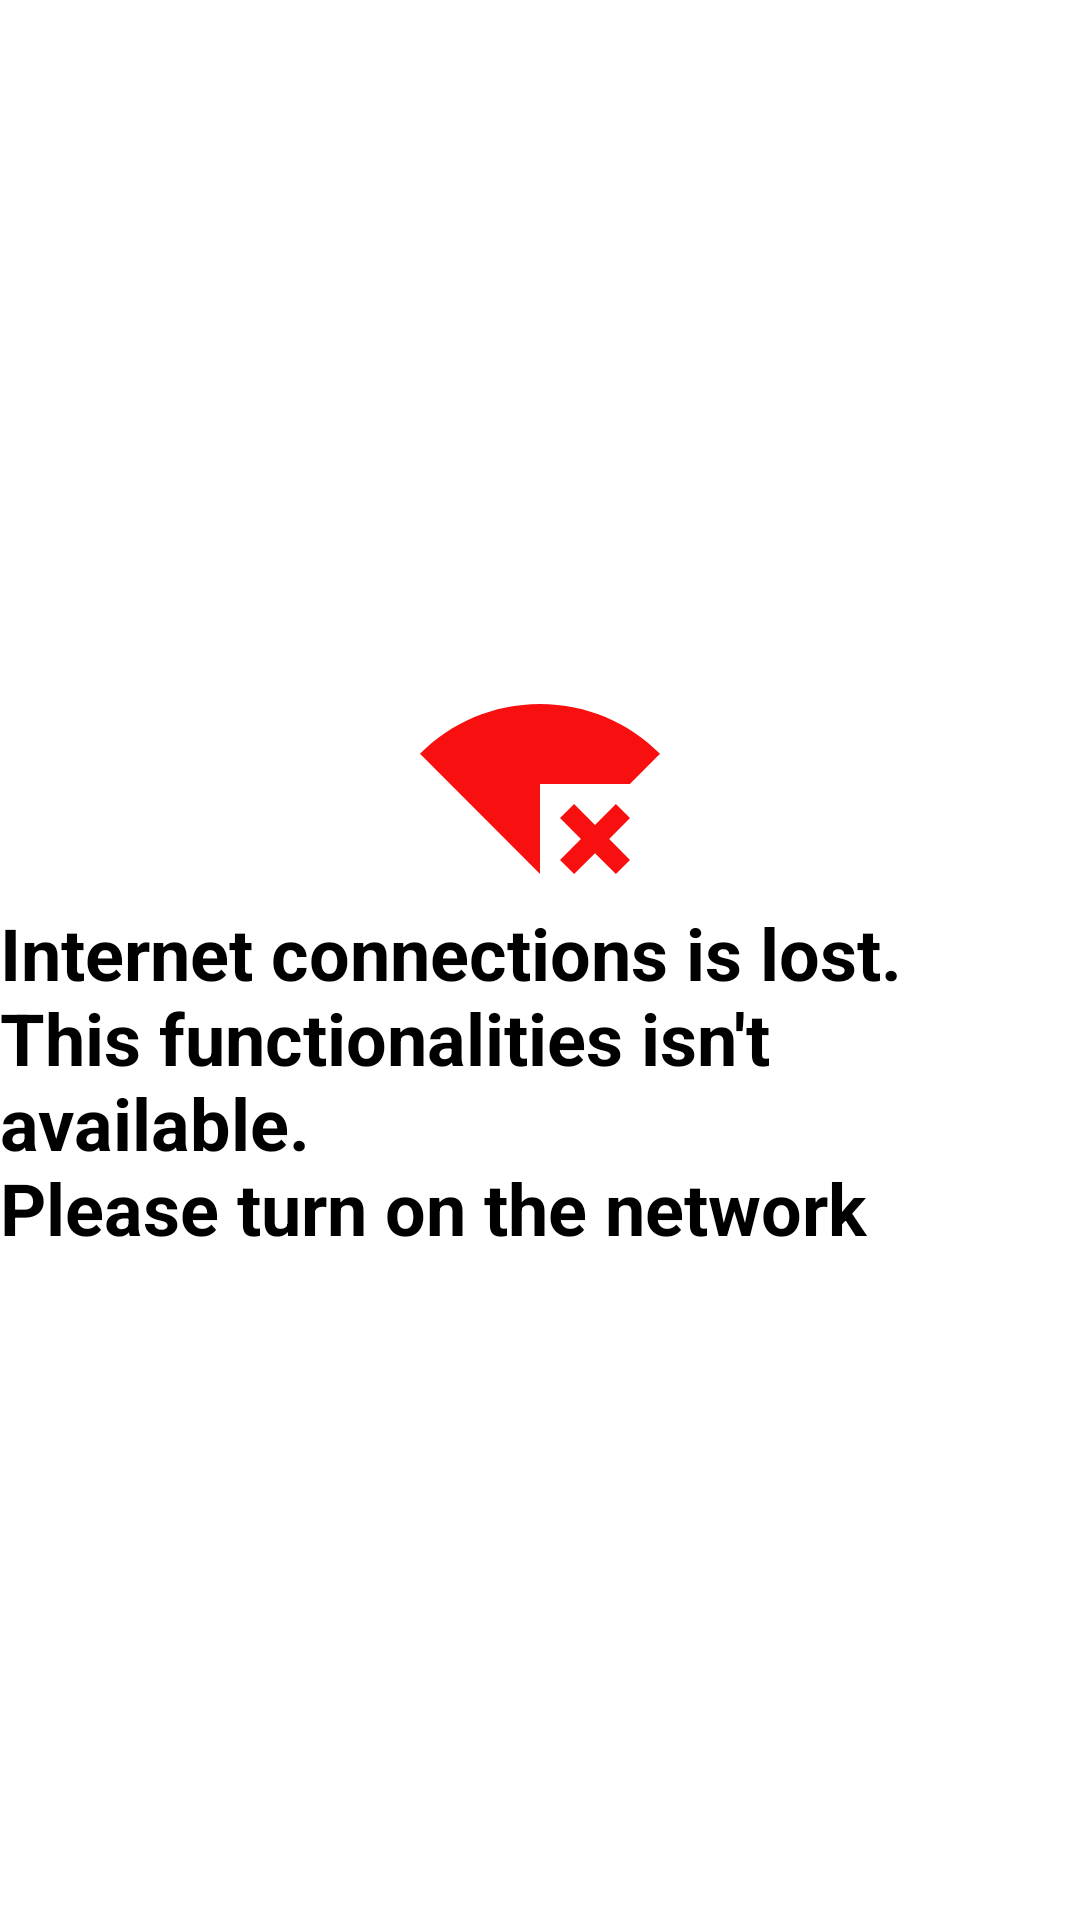

Icon bounding boxes for this 1080px×1920px phone screenshot, format (x1, y1, x2, y2):
no internet connected: (420, 704, 660, 874)
